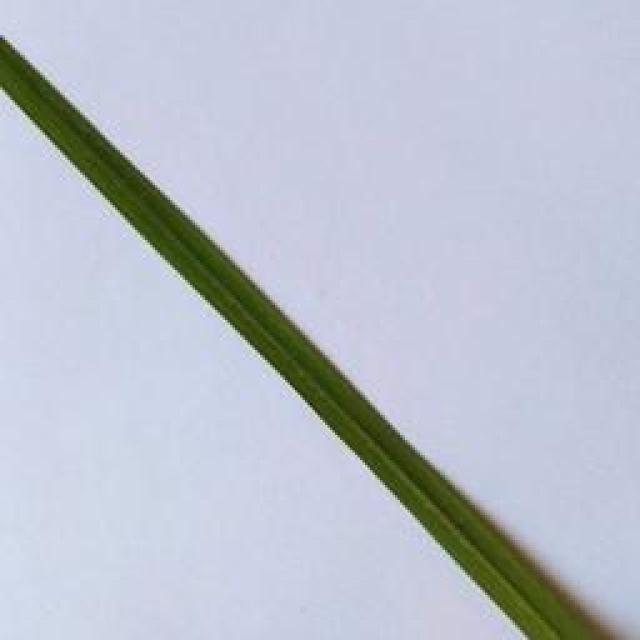Healthy-Plant: (0, 38, 578, 640)
